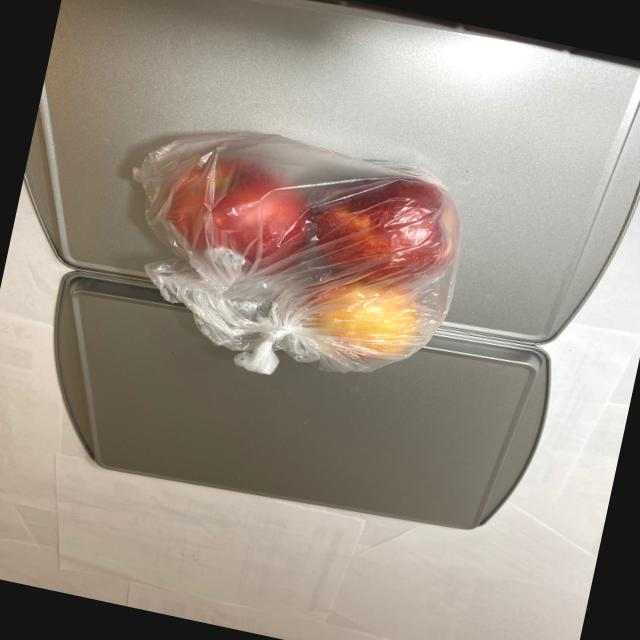apple: (122, 119, 470, 382)
